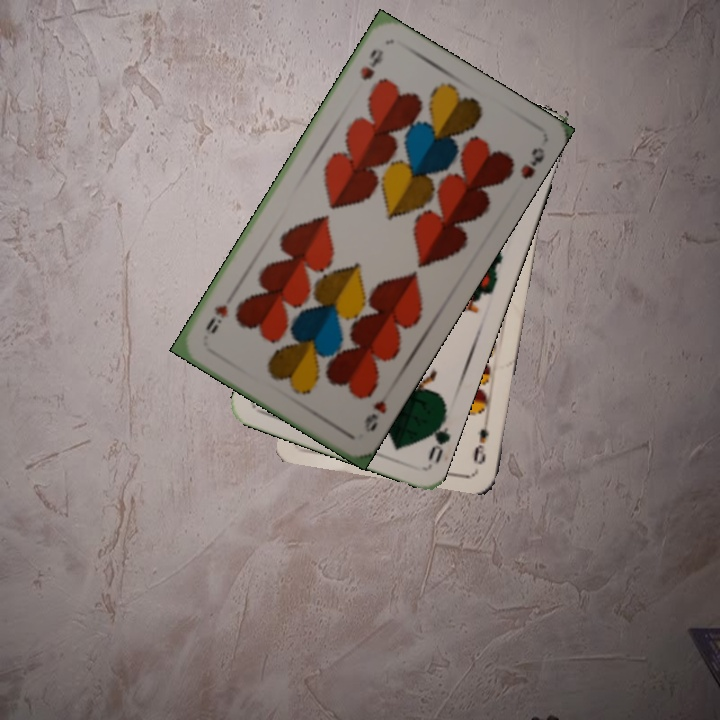E9: (469, 412, 492, 468)
GO: (421, 407, 452, 465)
H9: (355, 44, 386, 83), (360, 396, 389, 435)
